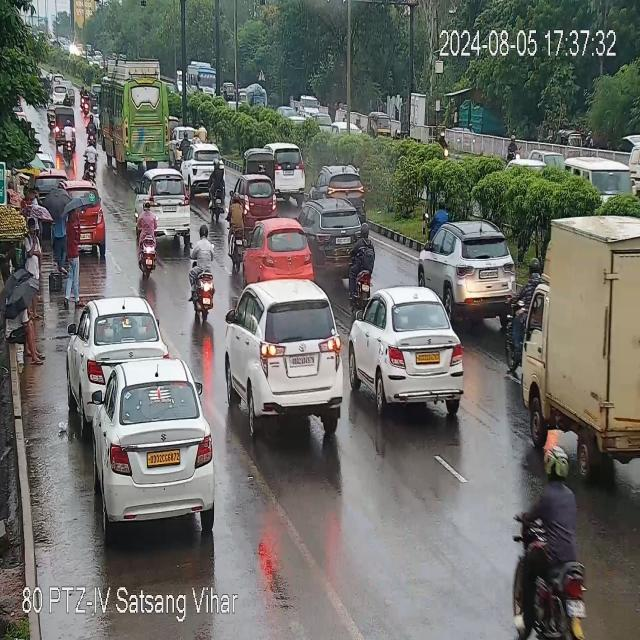2-wheelers: (517, 471, 586, 640), (187, 235, 220, 318), (134, 202, 163, 272), (350, 222, 372, 302), (228, 186, 246, 271), (207, 168, 230, 218), (62, 118, 77, 154)
auto: (366, 111, 404, 142), (244, 149, 276, 179), (48, 106, 79, 136)
bus: (97, 62, 179, 165)
car: (85, 359, 219, 524), (222, 280, 351, 424), (351, 286, 466, 409), (418, 221, 520, 305), (71, 298, 166, 388), (243, 218, 314, 288), (133, 173, 198, 233), (61, 174, 105, 257), (302, 197, 368, 241), (322, 167, 370, 206), (270, 148, 306, 197), (235, 174, 278, 204), (186, 144, 223, 170)
pedestrian: (4, 306, 46, 362), (65, 206, 83, 302), (25, 187, 48, 252)
truck: (509, 218, 639, 472), (506, 132, 519, 160), (440, 130, 450, 160)
